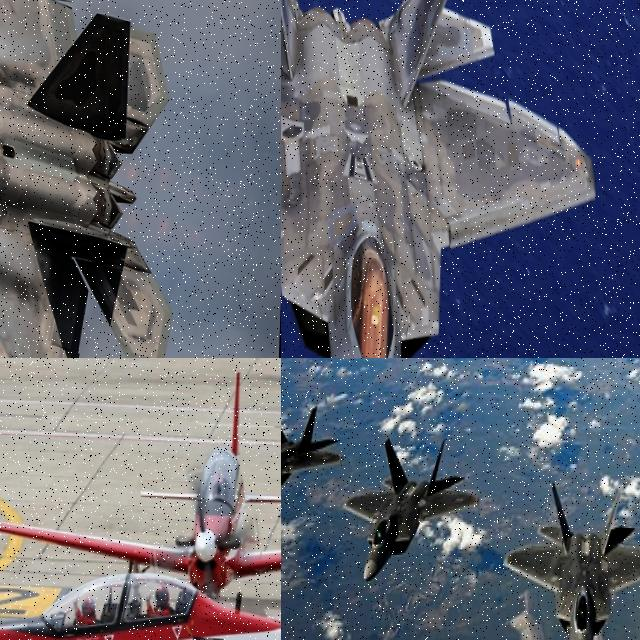F22: (281, 0, 609, 358), (0, 0, 186, 358), (494, 482, 640, 640), (342, 431, 477, 592), (281, 395, 348, 537)
KT-1: (0, 358, 281, 603), (0, 498, 281, 640)
